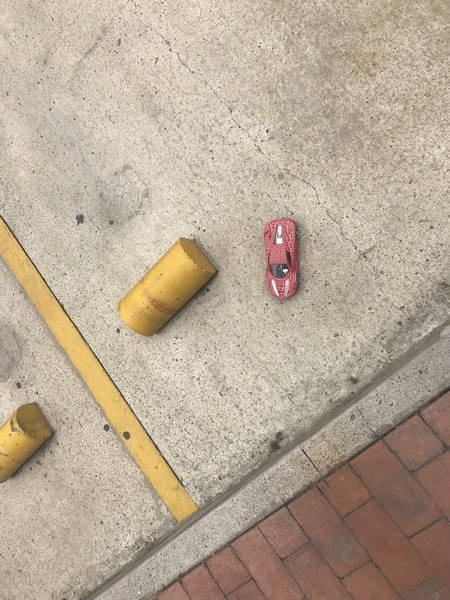RC: (264, 217, 301, 303)
